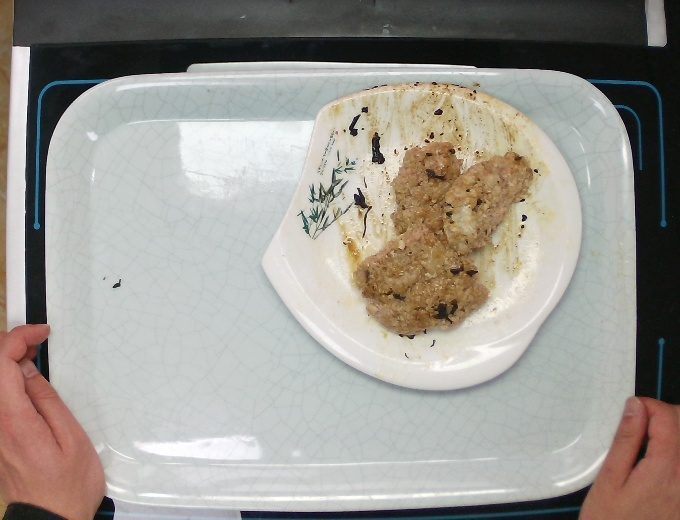JYsf-Mian_Pan: (257, 81, 586, 397)
